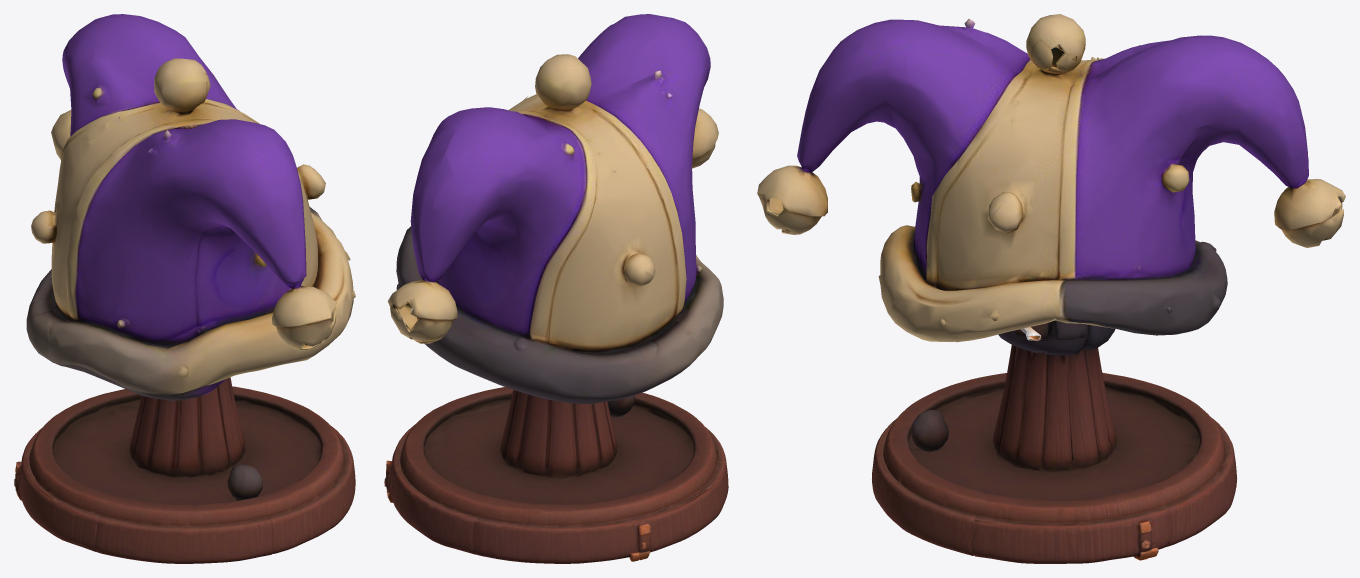
Rendered from house_joker.glb.
3 renders of one model, left to right at view 1: azimuth 30°, elevation 25°; view 2: azimuth 150°, elevation 25°; view 3: azimuth 270°, elevation 25°, orthographic. The views are drawn at different scales.
Parts seen in each view (by area): view 1: tripo_node_6d14f908-f2d6-4d21-98e7-4e157c549726; view 2: tripo_node_6d14f908-f2d6-4d21-98e7-4e157c549726; view 3: tripo_node_6d14f908-f2d6-4d21-98e7-4e157c549726.
Boxes of the visible parts, box(x1,y1,x2,y2) form: tripo_node_6d14f908-f2d6-4d21-98e7-4e157c549726: box(14, 14, 355, 563); tripo_node_6d14f908-f2d6-4d21-98e7-4e157c549726: box(384, 14, 728, 563); tripo_node_6d14f908-f2d6-4d21-98e7-4e157c549726: box(757, 14, 1345, 563).
Size of the model in its own units: 0.6083 by 0.8739 by 0.982.
Materials: 1 (1 with a texture image).
